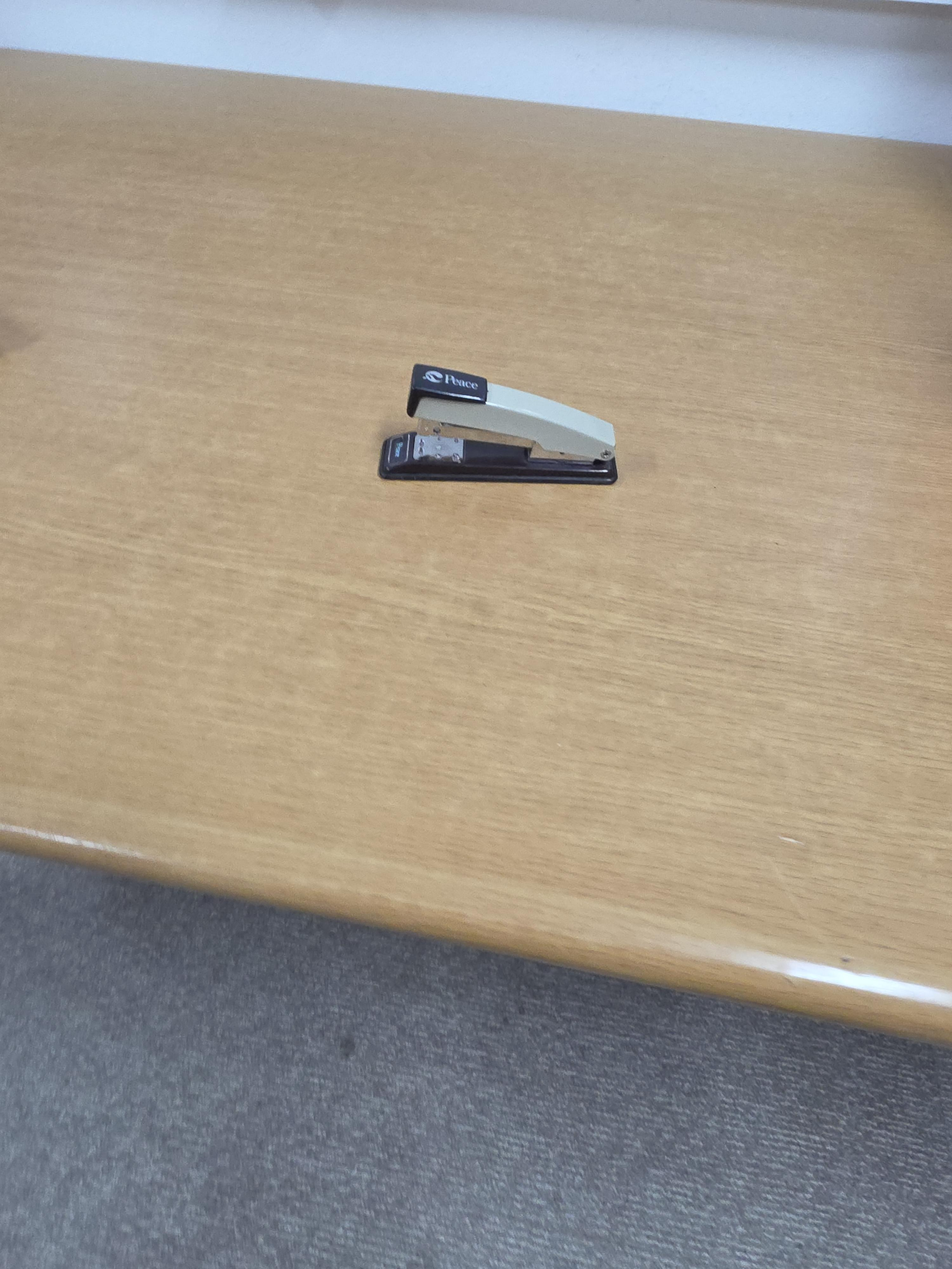stapler: (378, 364, 618, 485)
